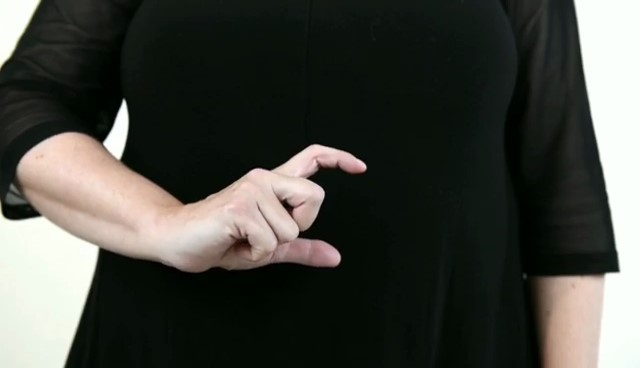Y: (186, 141, 369, 286)
